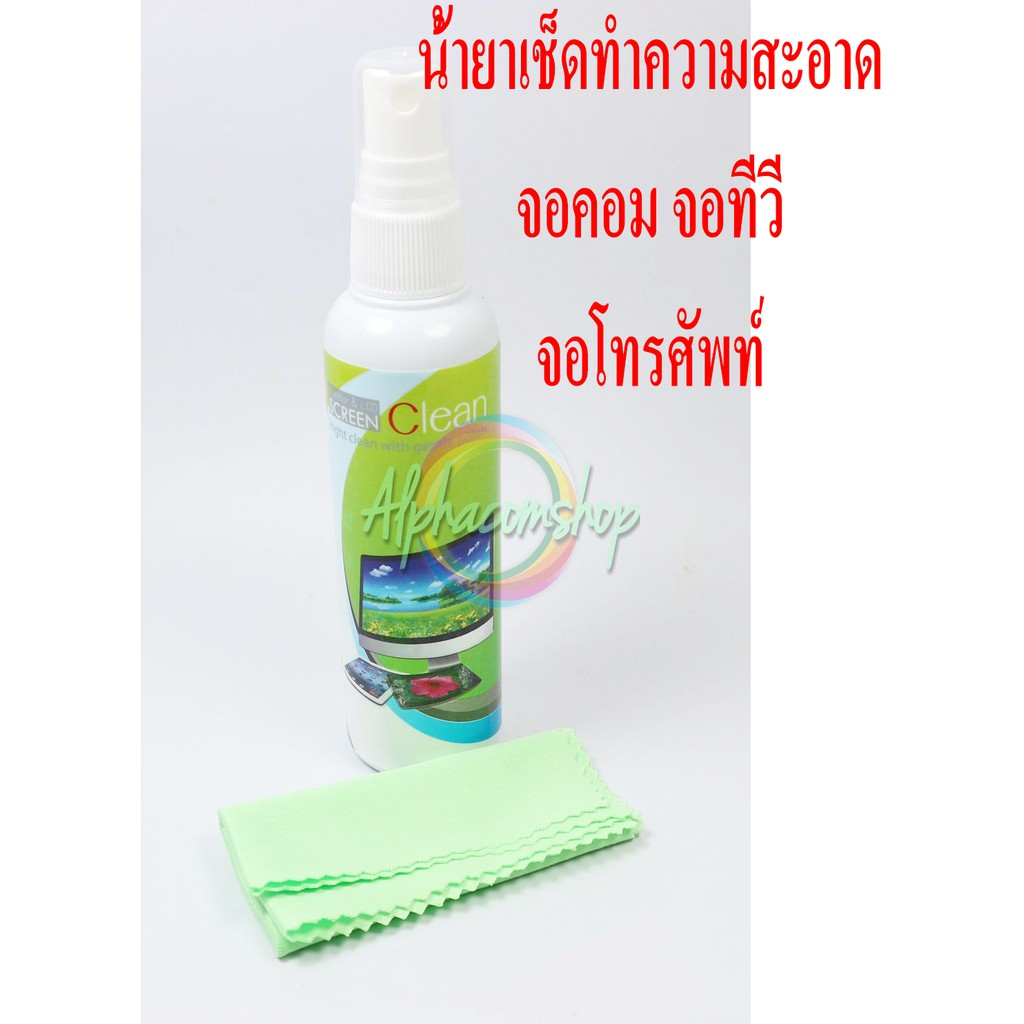Cleaning_solution: (318, 47, 520, 773)
